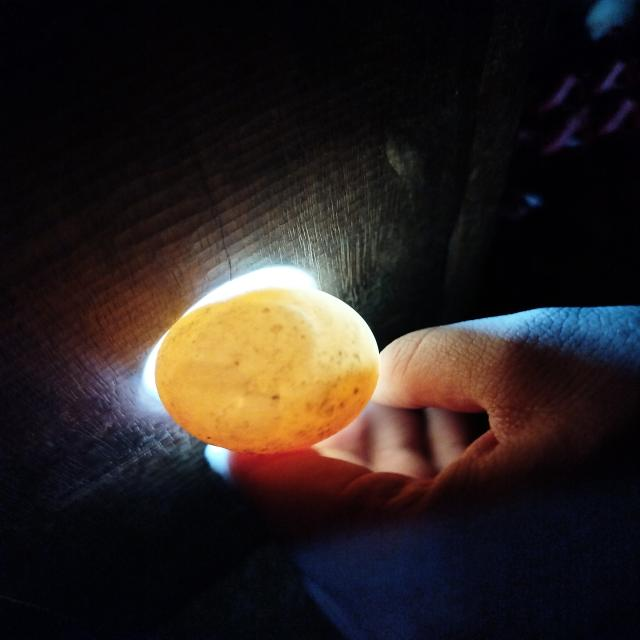Camara de Ar: (189, 304, 310, 390)
Gema Quebrada: (169, 370, 378, 453)
